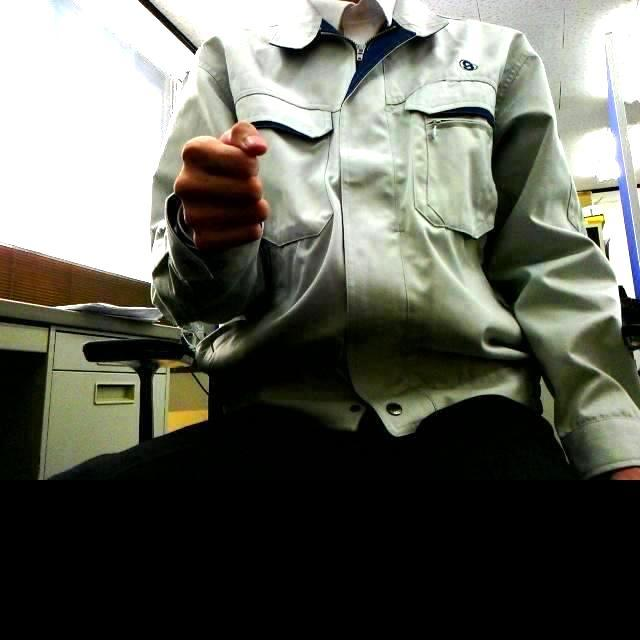gu-: (172, 120, 269, 256)
